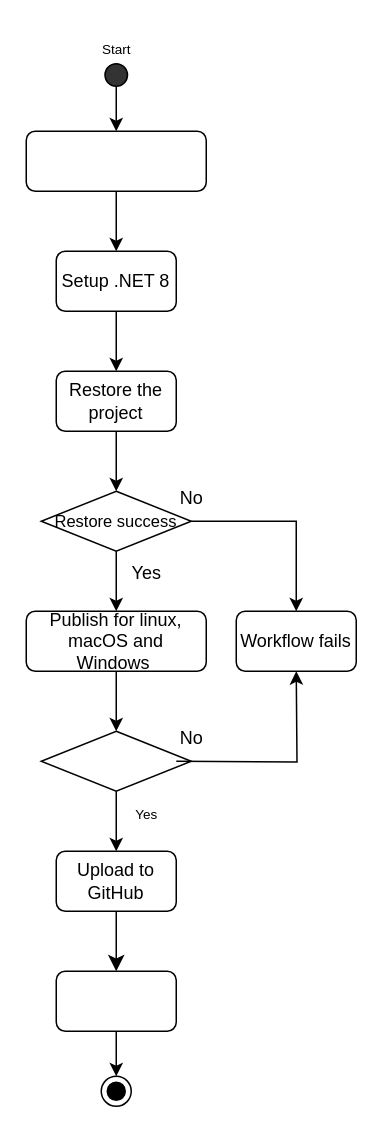
The diagram is 383 pixels wide and 1133 high, and some of its shapes have lost their labels. Here are the shapes that lost their labels. From the top down, the box of each, then its label:
(25, 130, 206, 191): Triggers on push with a tag
(40, 730, 191, 791): Publish success
(55, 970, 176, 1031): Workflow success
